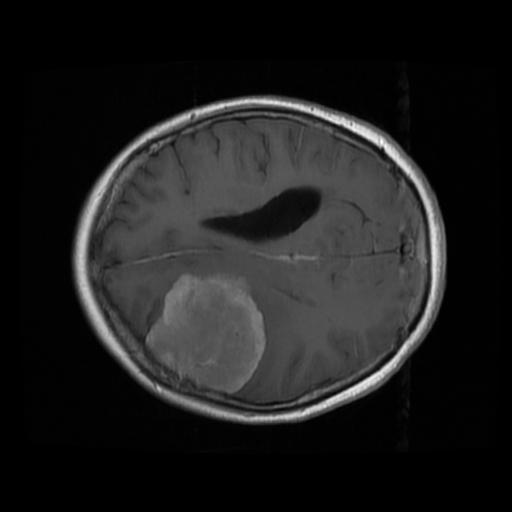meningioma: (145, 274, 265, 395)
